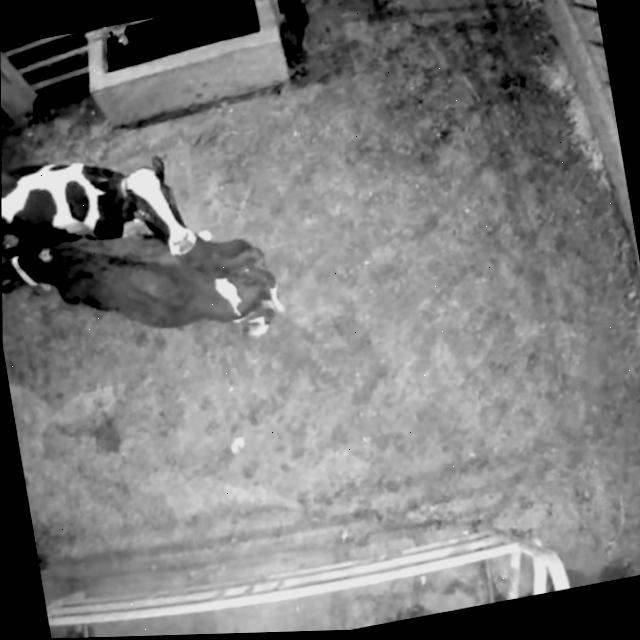propping: (102, 137, 220, 318)
